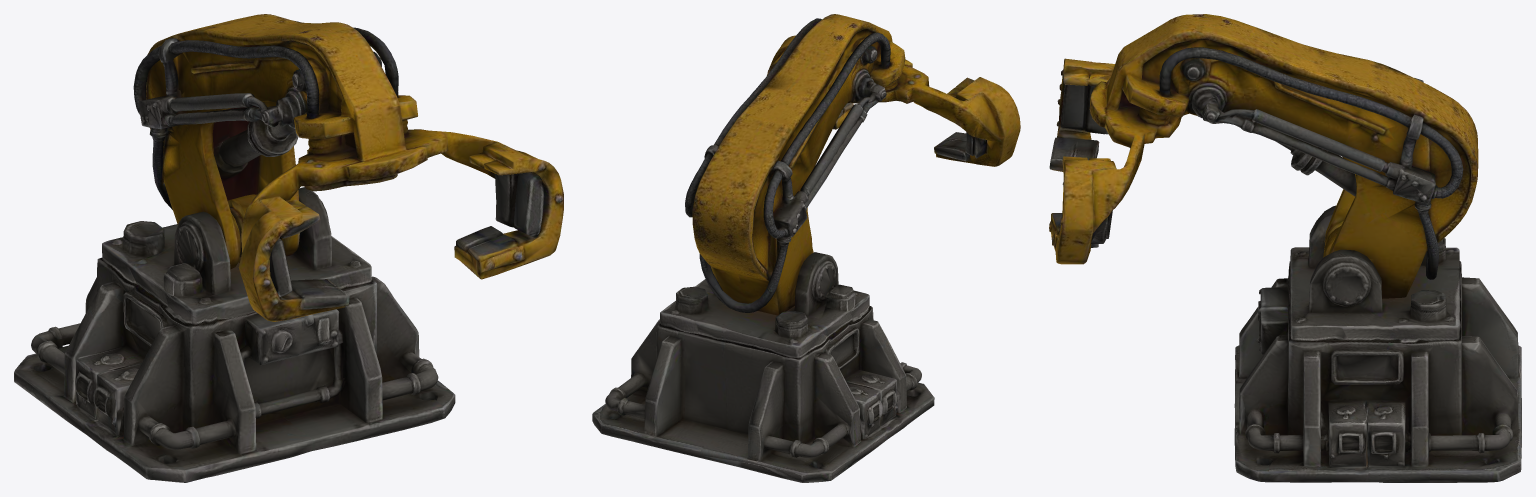
Rendered from loader_arm.glb.
The picture shows the model from 3 angles, left to right: view 1: azimuth 30°, elevation 25°; view 2: azimuth 150°, elevation 25°; view 3: azimuth 270°, elevation 25°; orthographic projection. The views are drawn at different scales.
Parts seen in each view (by area): view 1: tripo_node_ba356ca0-8643-4d44-bd78-db40069e7ee9; view 2: tripo_node_ba356ca0-8643-4d44-bd78-db40069e7ee9; view 3: tripo_node_ba356ca0-8643-4d44-bd78-db40069e7ee9.
Boxes of the visible parts, left/top/right/bottom form: tripo_node_ba356ca0-8643-4d44-bd78-db40069e7ee9: left=14, top=14, right=563, bottom=482; tripo_node_ba356ca0-8643-4d44-bd78-db40069e7ee9: left=592, top=14, right=1020, bottom=482; tripo_node_ba356ca0-8643-4d44-bd78-db40069e7ee9: left=1049, top=14, right=1521, bottom=482.
Size of the model in its own units: 0.6901 by 0.9144 by 0.9993.
1 material, 1 textured.
